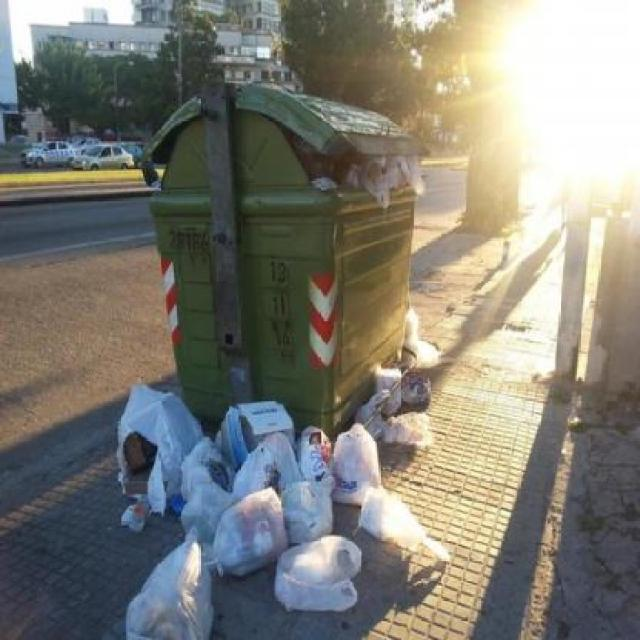garbage: (102, 377, 439, 638), (311, 146, 427, 193)
